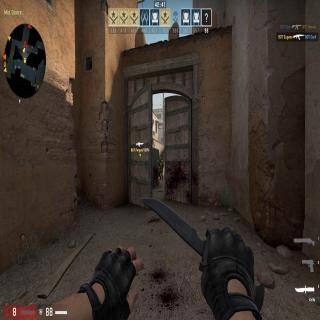CT-Body: (159, 158, 164, 181)
CT-Head: (159, 158, 162, 163)
